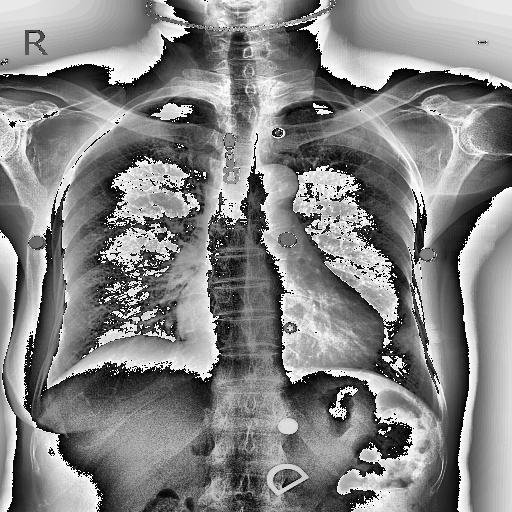0- Aortic enlargement: (257, 163, 299, 194)
3- Cardiomegaly: (172, 289, 384, 368), (174, 288, 386, 366), (174, 292, 382, 358)
